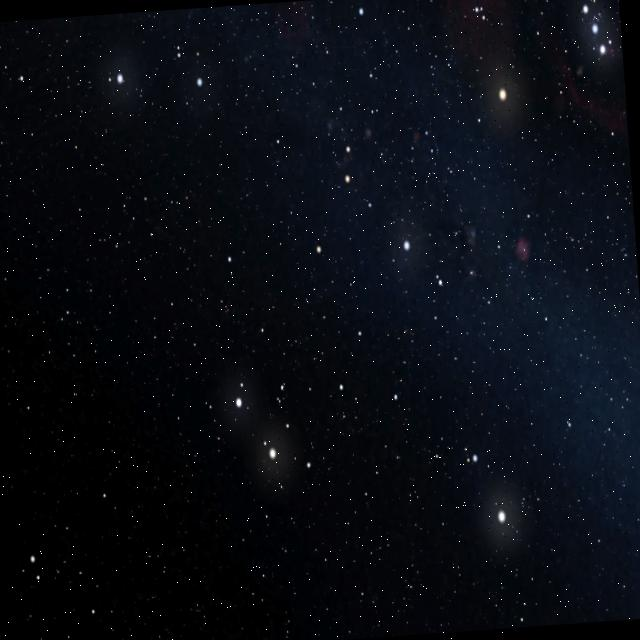Gemini: (208, 88, 460, 488)
